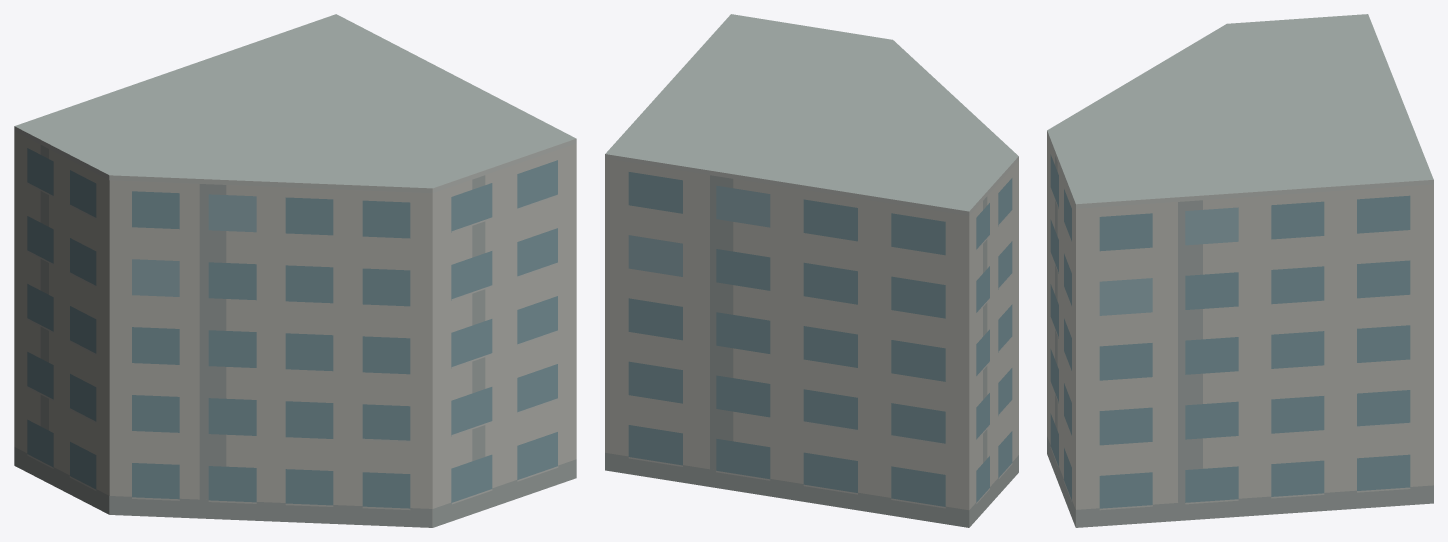
The model's file is survey-upis-32963842.glb.
3 views of the same model, side by side, from view 1: azimuth 30°, elevation 25°; view 2: azimuth 150°, elevation 25°; view 3: azimuth 270°, elevation 25° (orthographic). The views are drawn at different scales.
Visible parts, largest first — view 1: survey-upis-32963842.tmp; view 2: survey-upis-32963842.tmp; view 3: survey-upis-32963842.tmp.
Part boxes in pixels (x1,y1,x2,y2): survey-upis-32963842.tmp: (14, 14, 576, 527); survey-upis-32963842.tmp: (605, 14, 1018, 527); survey-upis-32963842.tmp: (1047, 14, 1433, 527).
Bounding box in the file's own units: 21.17 × 16.79 × 18.19.
